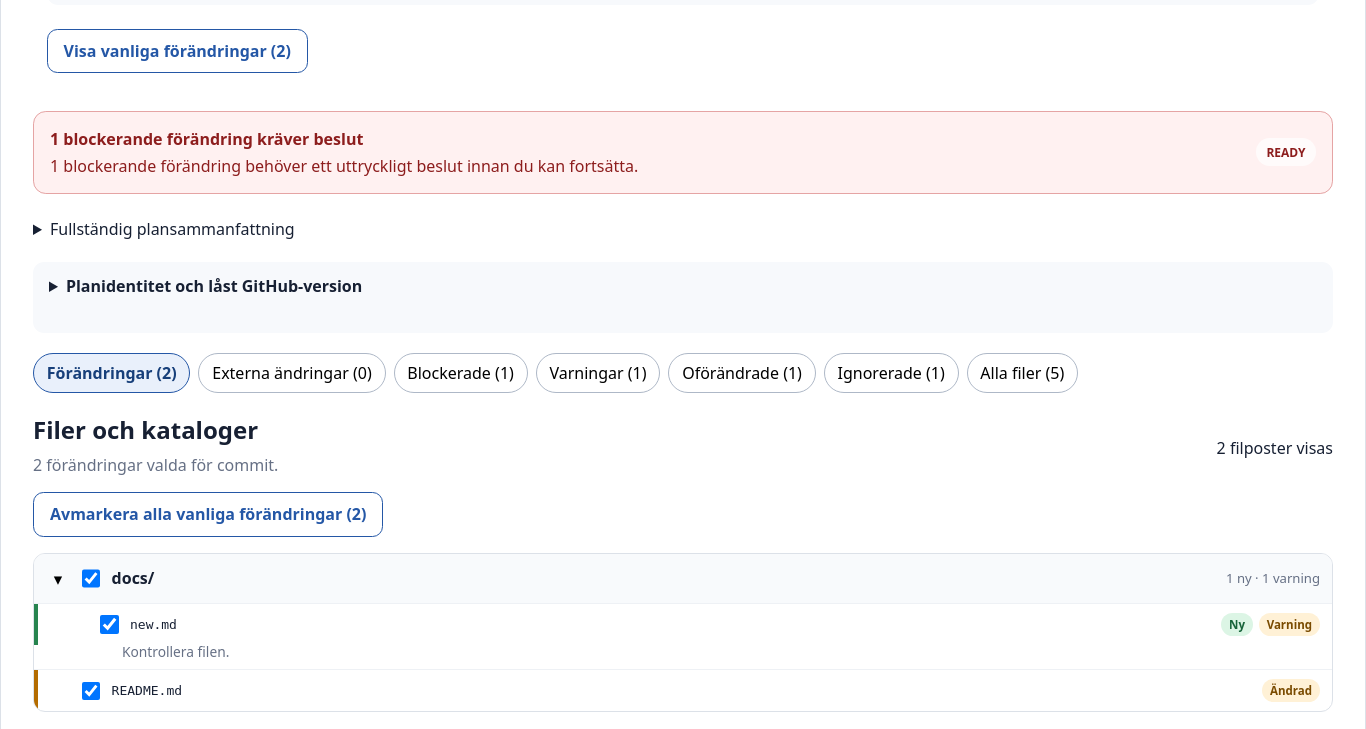
Test: ImportReviewPage › filters to blocked entries
(page scrolled)
Check: the text "README.md" is shown, box [112,683,182,698]
Step 1. Click the button "Blockerade (1)" → (461, 373), box [394,353,528,393]
(page scrolled)
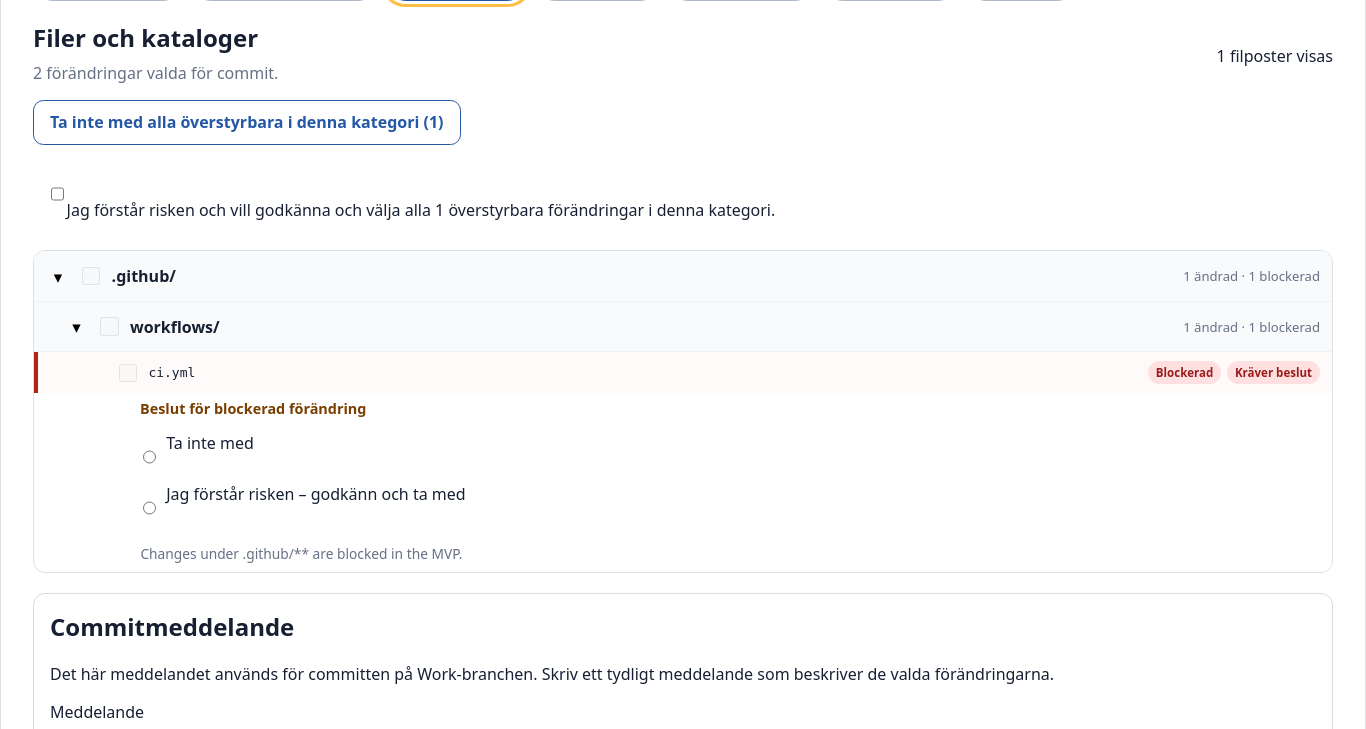
Check: the text titled ".github/workflows/ci.yml" is shown, box [148,365,195,380]
Check: the text "README.md" is gone
